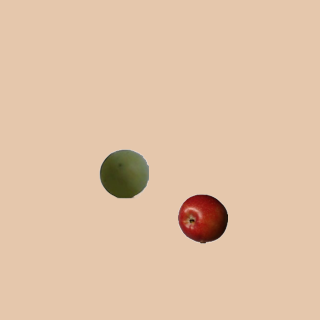Apple Braeburn: (177, 193, 227, 243)
Grape White 4: (98, 148, 148, 198)
